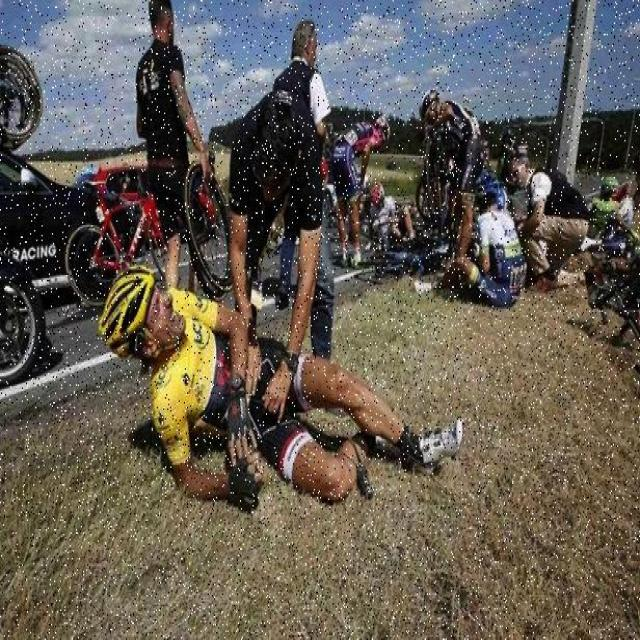fall: (106, 282, 376, 512)
